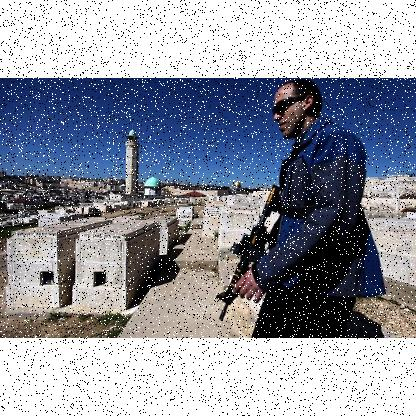gun: (214, 184, 315, 324)
